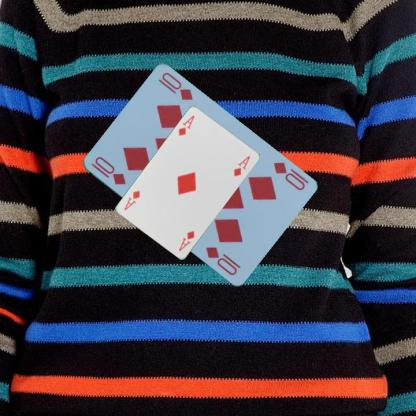10d: (88, 154, 127, 186), (270, 158, 306, 192)
Ad: (176, 112, 196, 138), (176, 228, 196, 253)
